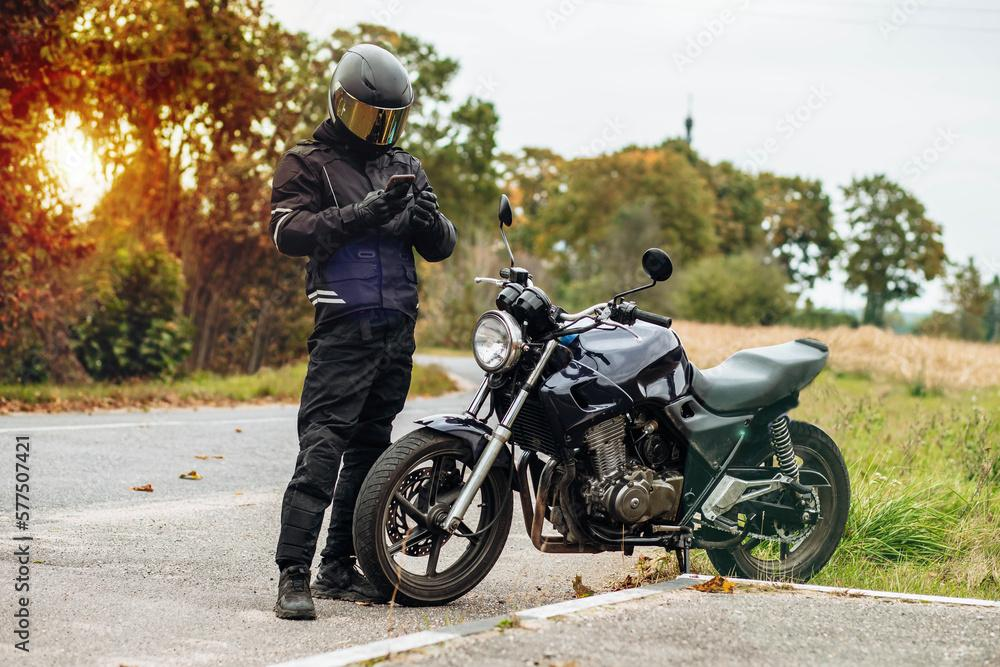helmet: (327, 43, 415, 159)
